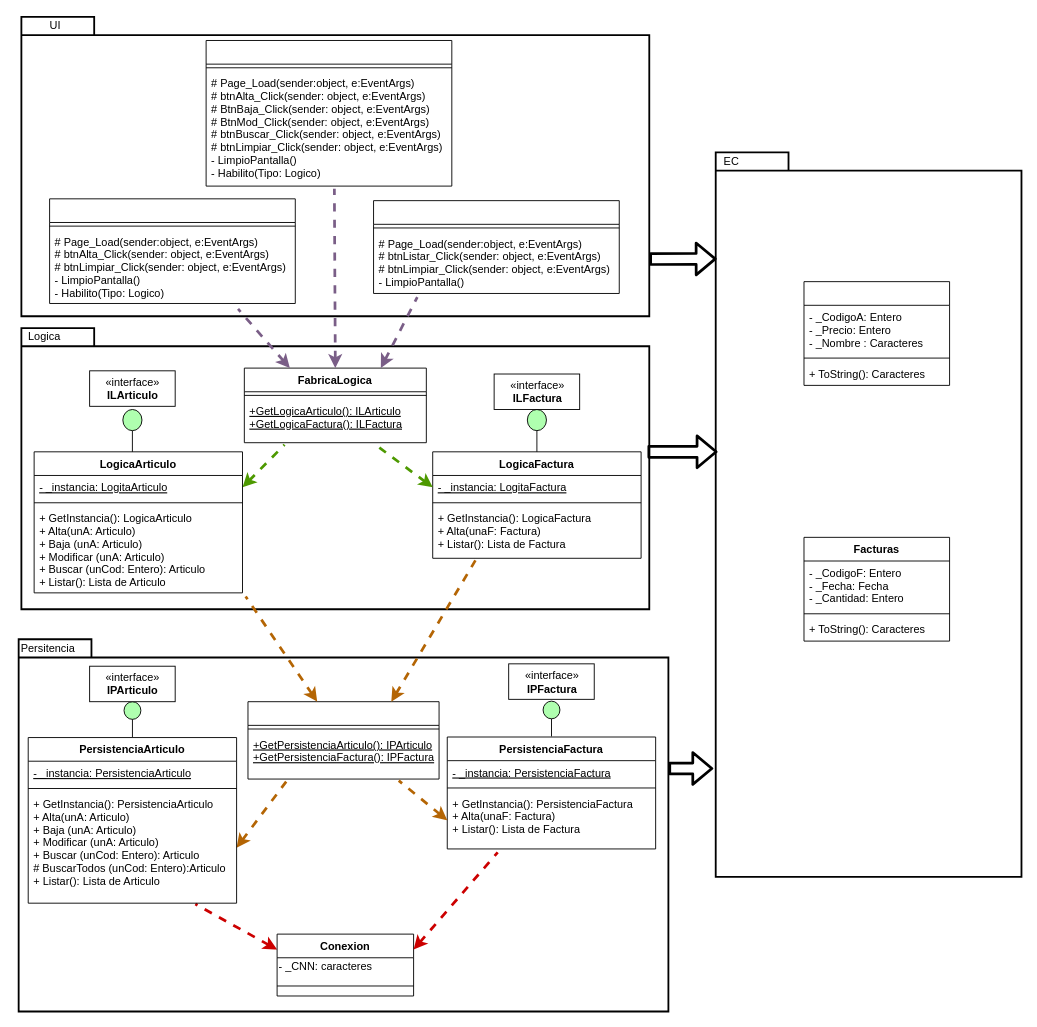
Image size: 1037x1027. Some labels were removed from this diagram. The box of each missing label's shape, as (x1, y1, x2, y2) in pixels:
Articulo: (803, 281, 950, 385)
FabricaPersistencia: (247, 701, 439, 779)
FORMABMArticulos: (205, 40, 452, 186)
FORMAltaFactura: (49, 198, 295, 303)
FORMListarFactura: (373, 200, 619, 293)
